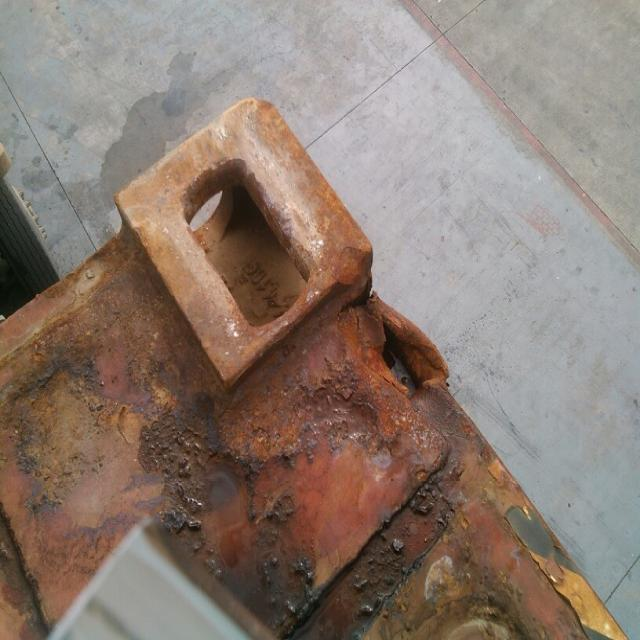hole: (360, 303, 461, 408)
